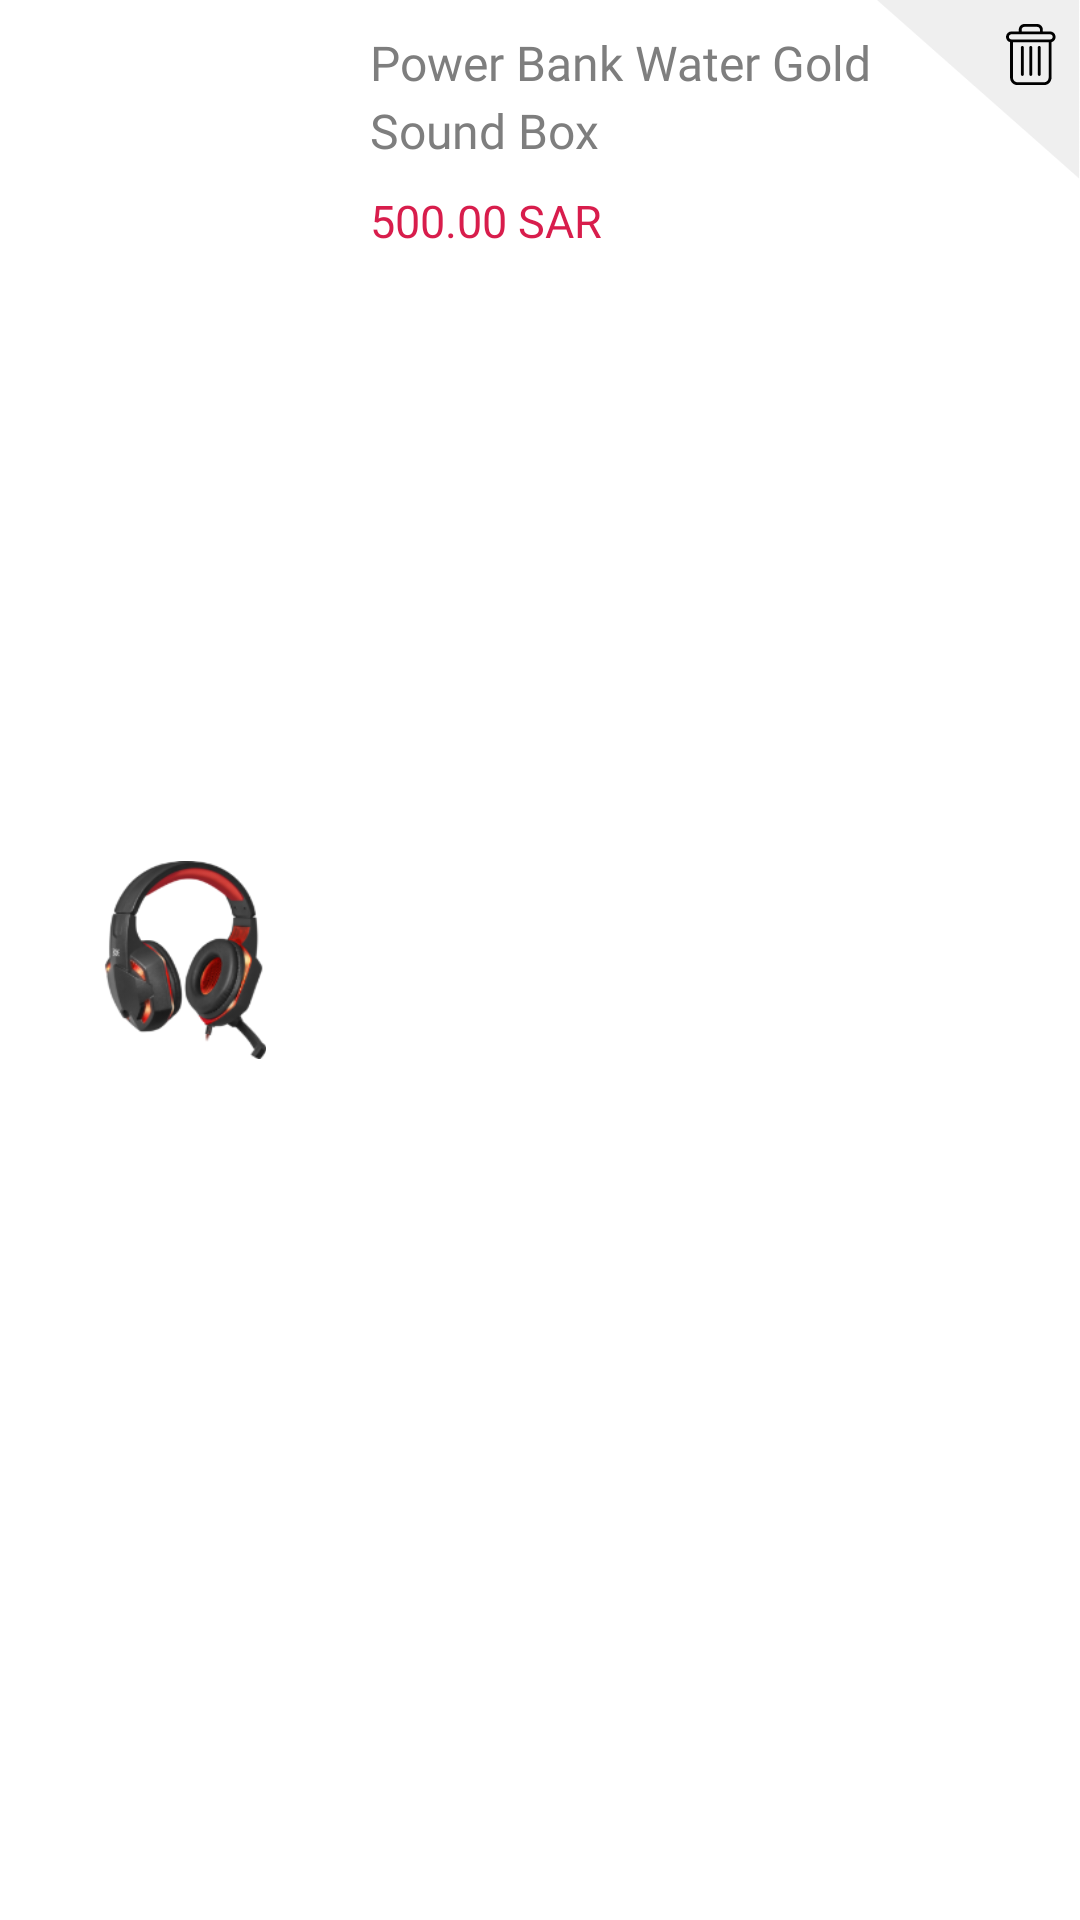

Named icons in this screenshot (1080 x 1920) and their bounding boxes, (x1, y1, x2, y2):
delete: (1006, 24, 1056, 85)
